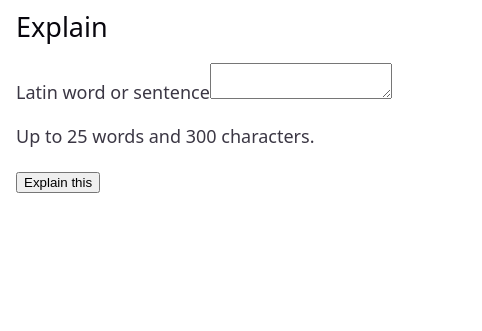
it: shows the explanation, then each word with lemma, parse and badge
Type "regem quoque" into the text box at (301, 81), box [210, 63, 392, 99]
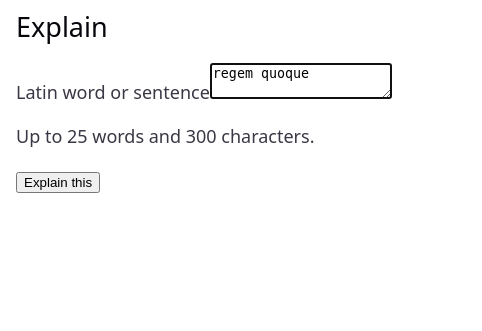
Click the button "Explain this" at (58, 183), box [16, 172, 100, 193]
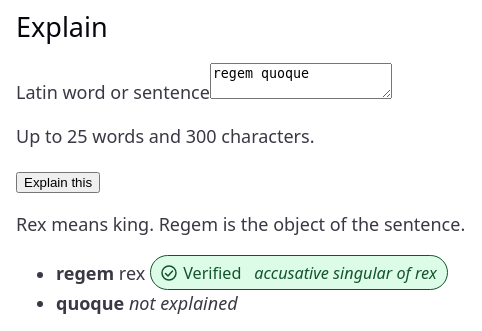
Now the text "Rex means king. Regem is the object of the sentence." is shown, box [16, 212, 465, 236]
Now the list item "regem" shows "rex", box [119, 262, 145, 286]
Now the list item "regem" shows "accusative singular of rex", box [254, 262, 437, 284]
